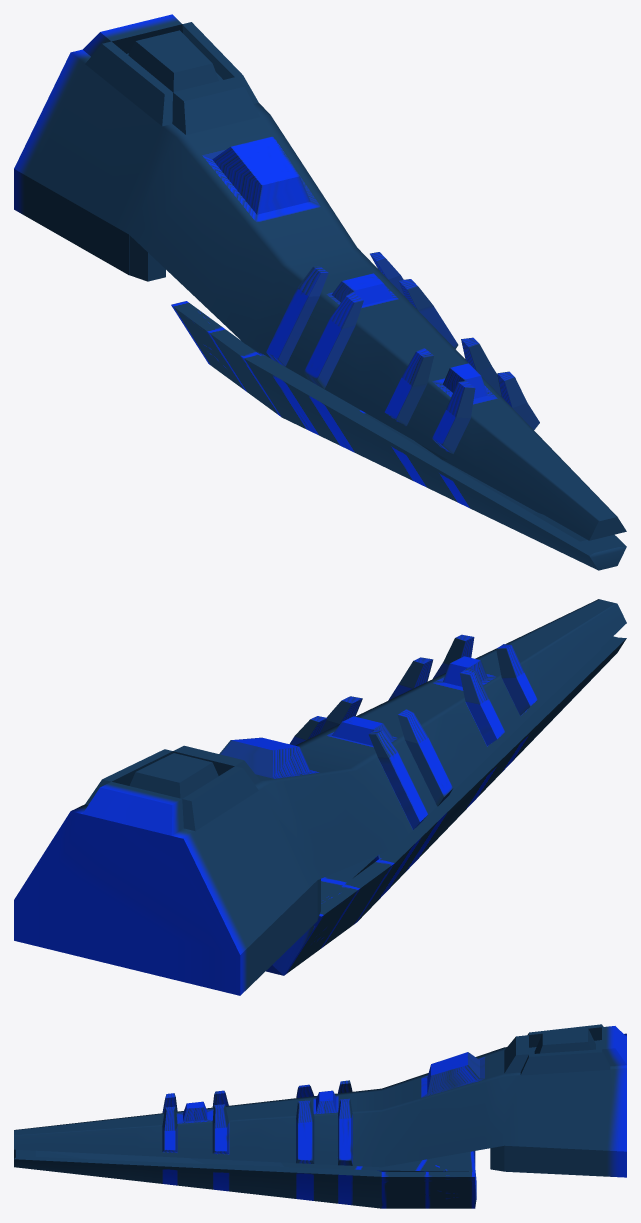
File: Cañon2.fbx
3 views of the same model, one above another, from view 1: azimuth 30°, elevation 25°; view 2: azimuth 150°, elevation 25°; view 3: azimuth 270°, elevation 25° (orthographic). The views are drawn at different scales.
Visible parts, largest first — view 1: pCone1, pCone2; view 2: pCone1, pCone2; view 3: pCone1, pCone2.
Boxes of the visible parts, box(x1,y1,x2,y2) form: pCone1: box(14, 14, 626, 540); pCone2: box(171, 301, 626, 570); pCone1: box(14, 599, 626, 995); pCone2: box(266, 636, 626, 975); pCone1: box(14, 1024, 626, 1177); pCone2: box(14, 1149, 476, 1208).
Size of the model in its own units: 2 by 2.15 by 7.37.
